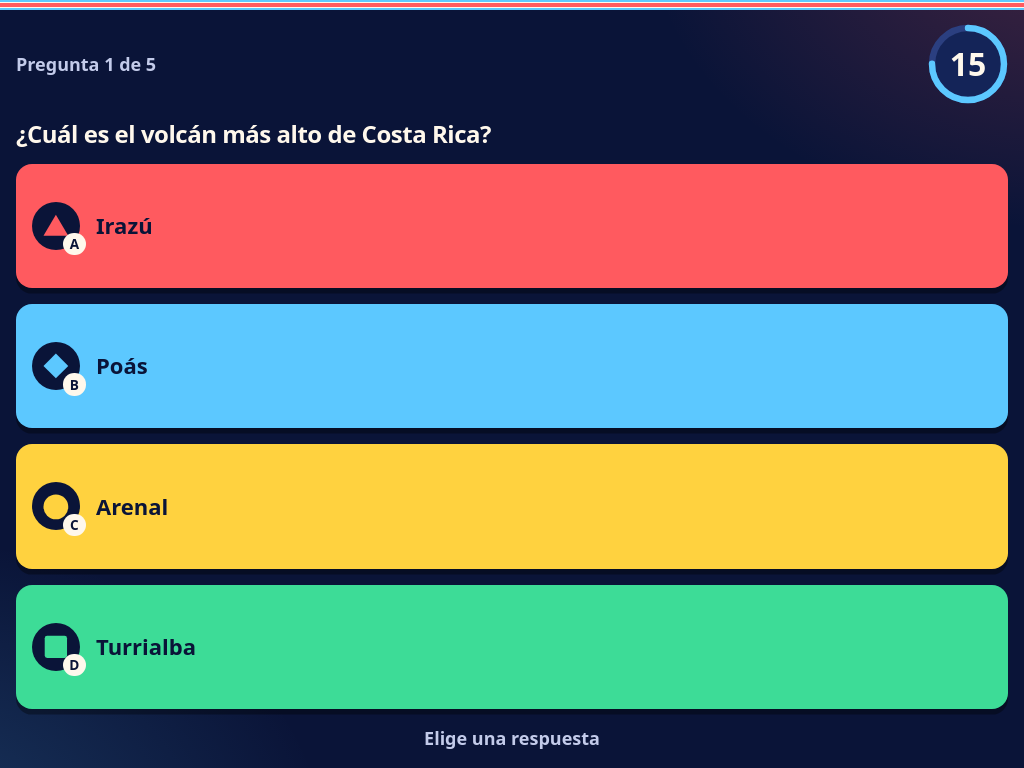
question › a reconnection in the same question keeps the answer
The image size is (1024, 768).
Step 1. Click the button "C Arenal" → (56, 506), box [16, 444, 1008, 569]
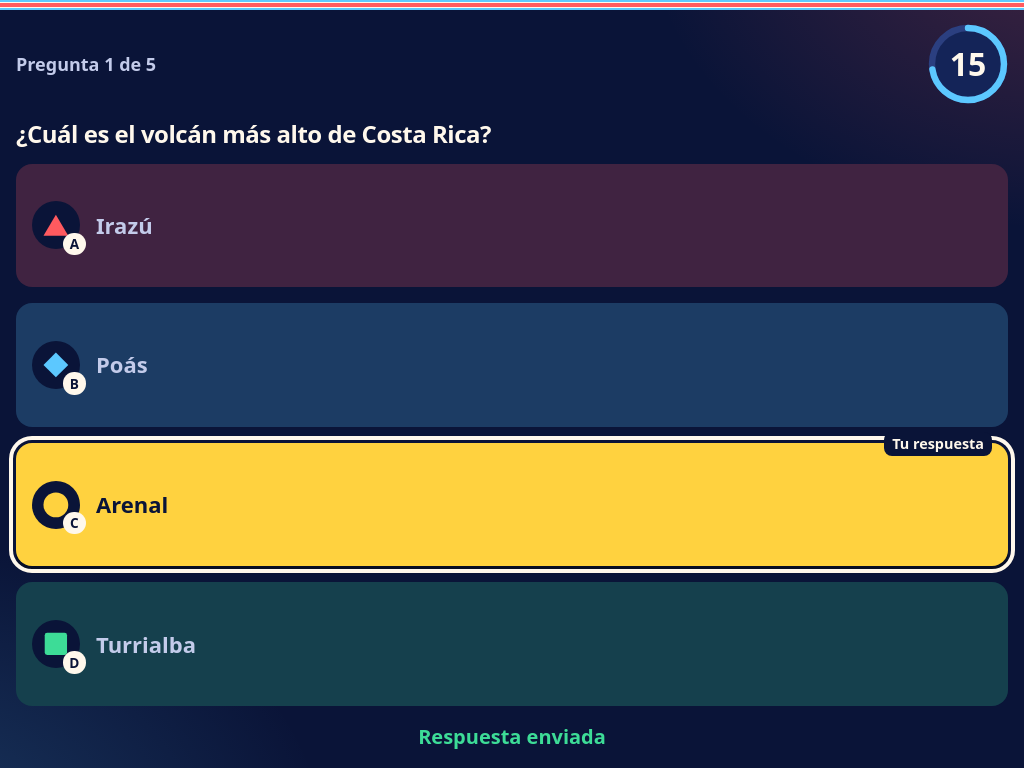
Check: the message reads "Respuesta enviada", box [418, 723, 606, 750]
